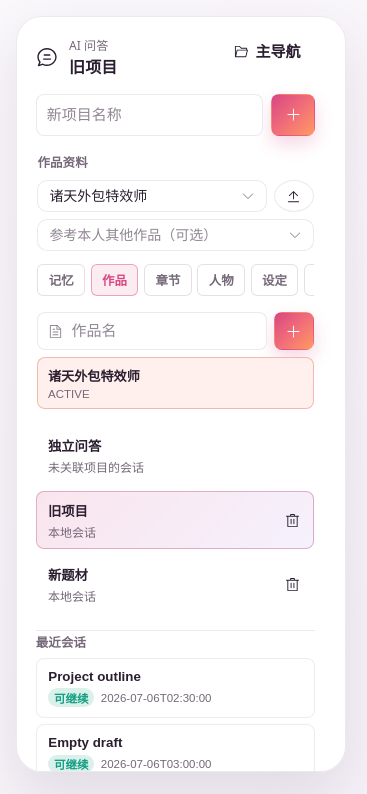
Test: KnowledgeProjectSpace › prepares a default work for a new project and opens import without another prerequisite
Step 1. Type "都市脑洞" into the field with placeholder "新项目名称" → (150,115), box x1=47 y1=100 x2=252 y2=130
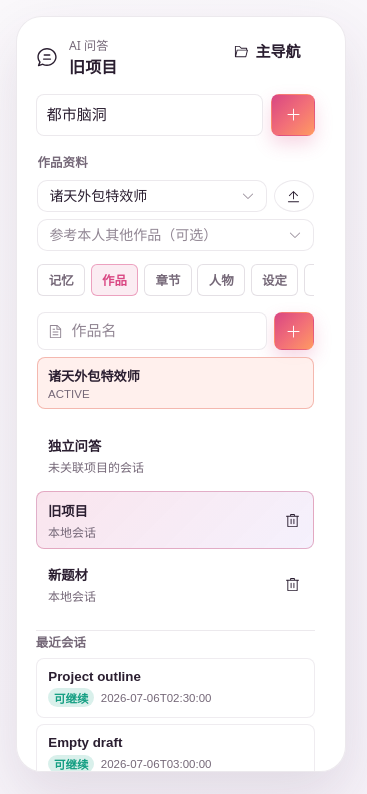
Step 2. Click the button with test id "knowledge-create-project" → (293,115), box x1=271 y1=94 x2=315 y2=136
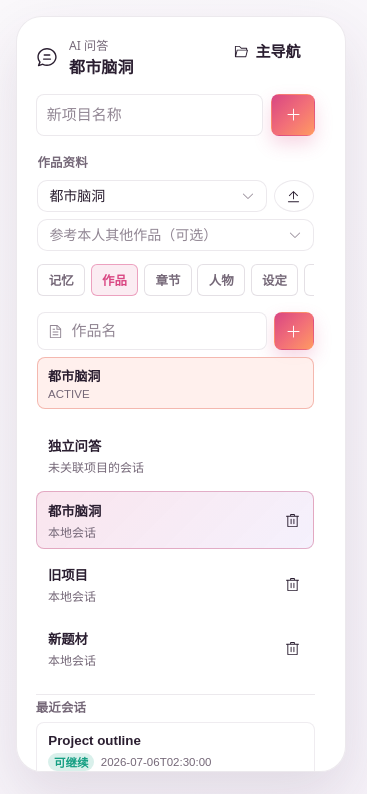
Step 3. Click the button with test id "knowledge-open-ingest" → (294,196), box x1=274 y1=180 x2=314 y2=212
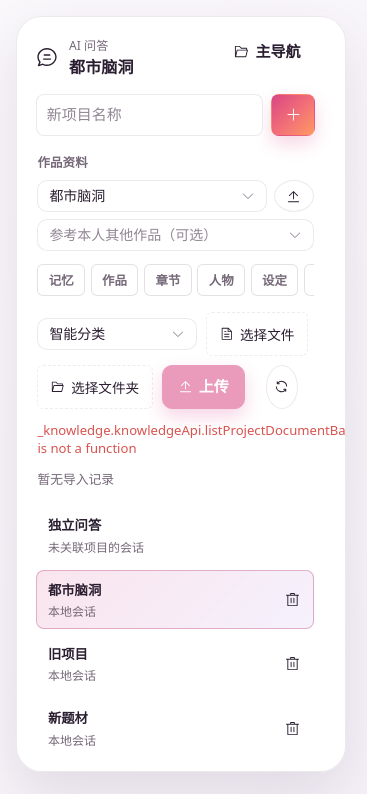
Result: the element with test id "project-ingest-panel" is shown at x1=37 y1=312 x2=314 y2=488
